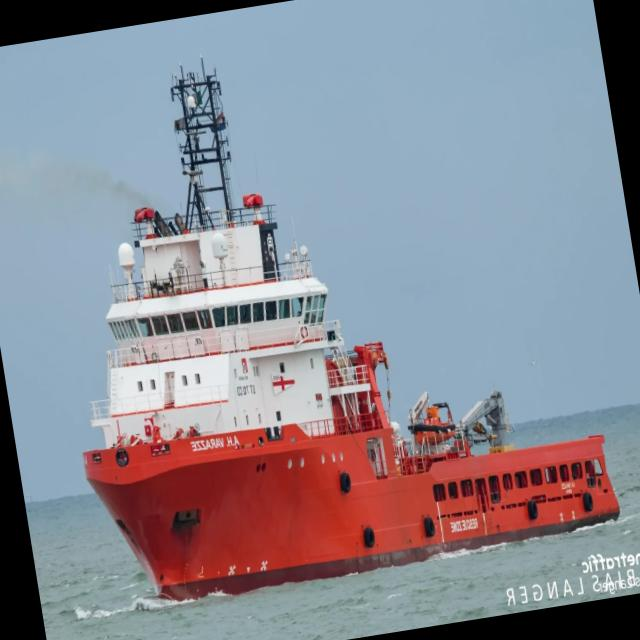Offshore: (83, 67, 619, 601)
